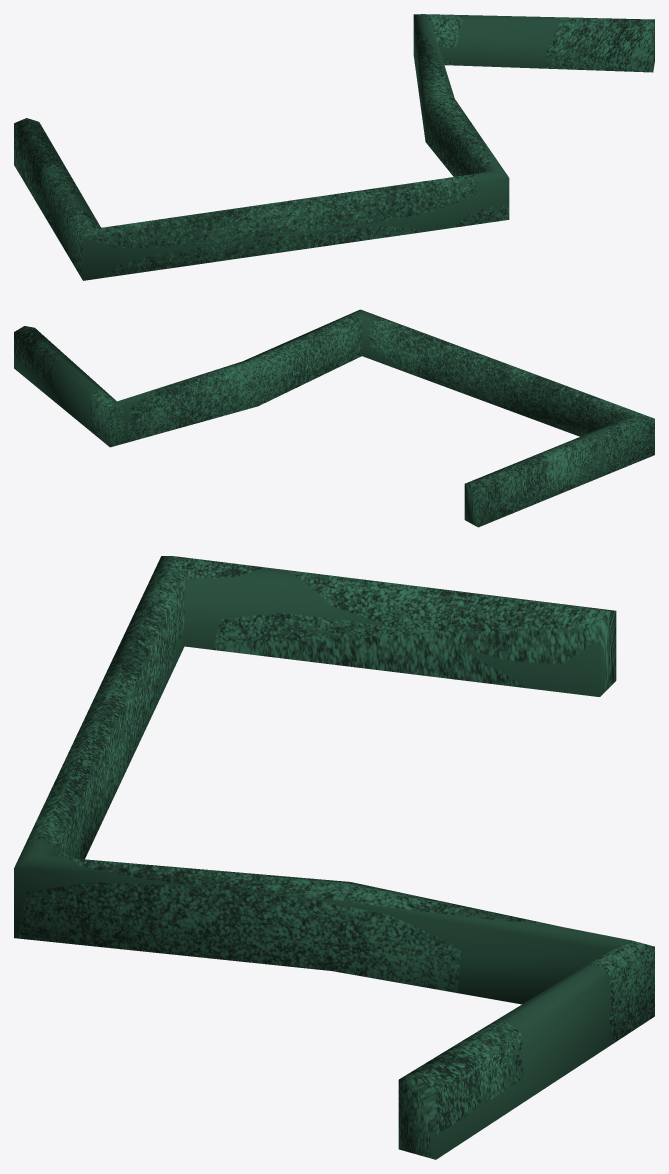
File: Ring4W1.fbx
The picture shows the model from 3 angles, top to bottom: view 1: azimuth 30°, elevation 25°; view 2: azimuth 150°, elevation 25°; view 3: azimuth 270°, elevation 25°; orthographic projection. The views are drawn at different scales.
Parts seen in each view (by area): view 1: Ring4W1; view 2: Ring4W1; view 3: Ring4W1.
Boxes of the visible parts, bbox=[...] form: Ring4W1: bbox=[14, 14, 654, 280]; Ring4W1: bbox=[14, 309, 654, 527]; Ring4W1: bbox=[14, 556, 654, 1159].
Bounding box in the file's own units: 5906 × 400 × 2996.
